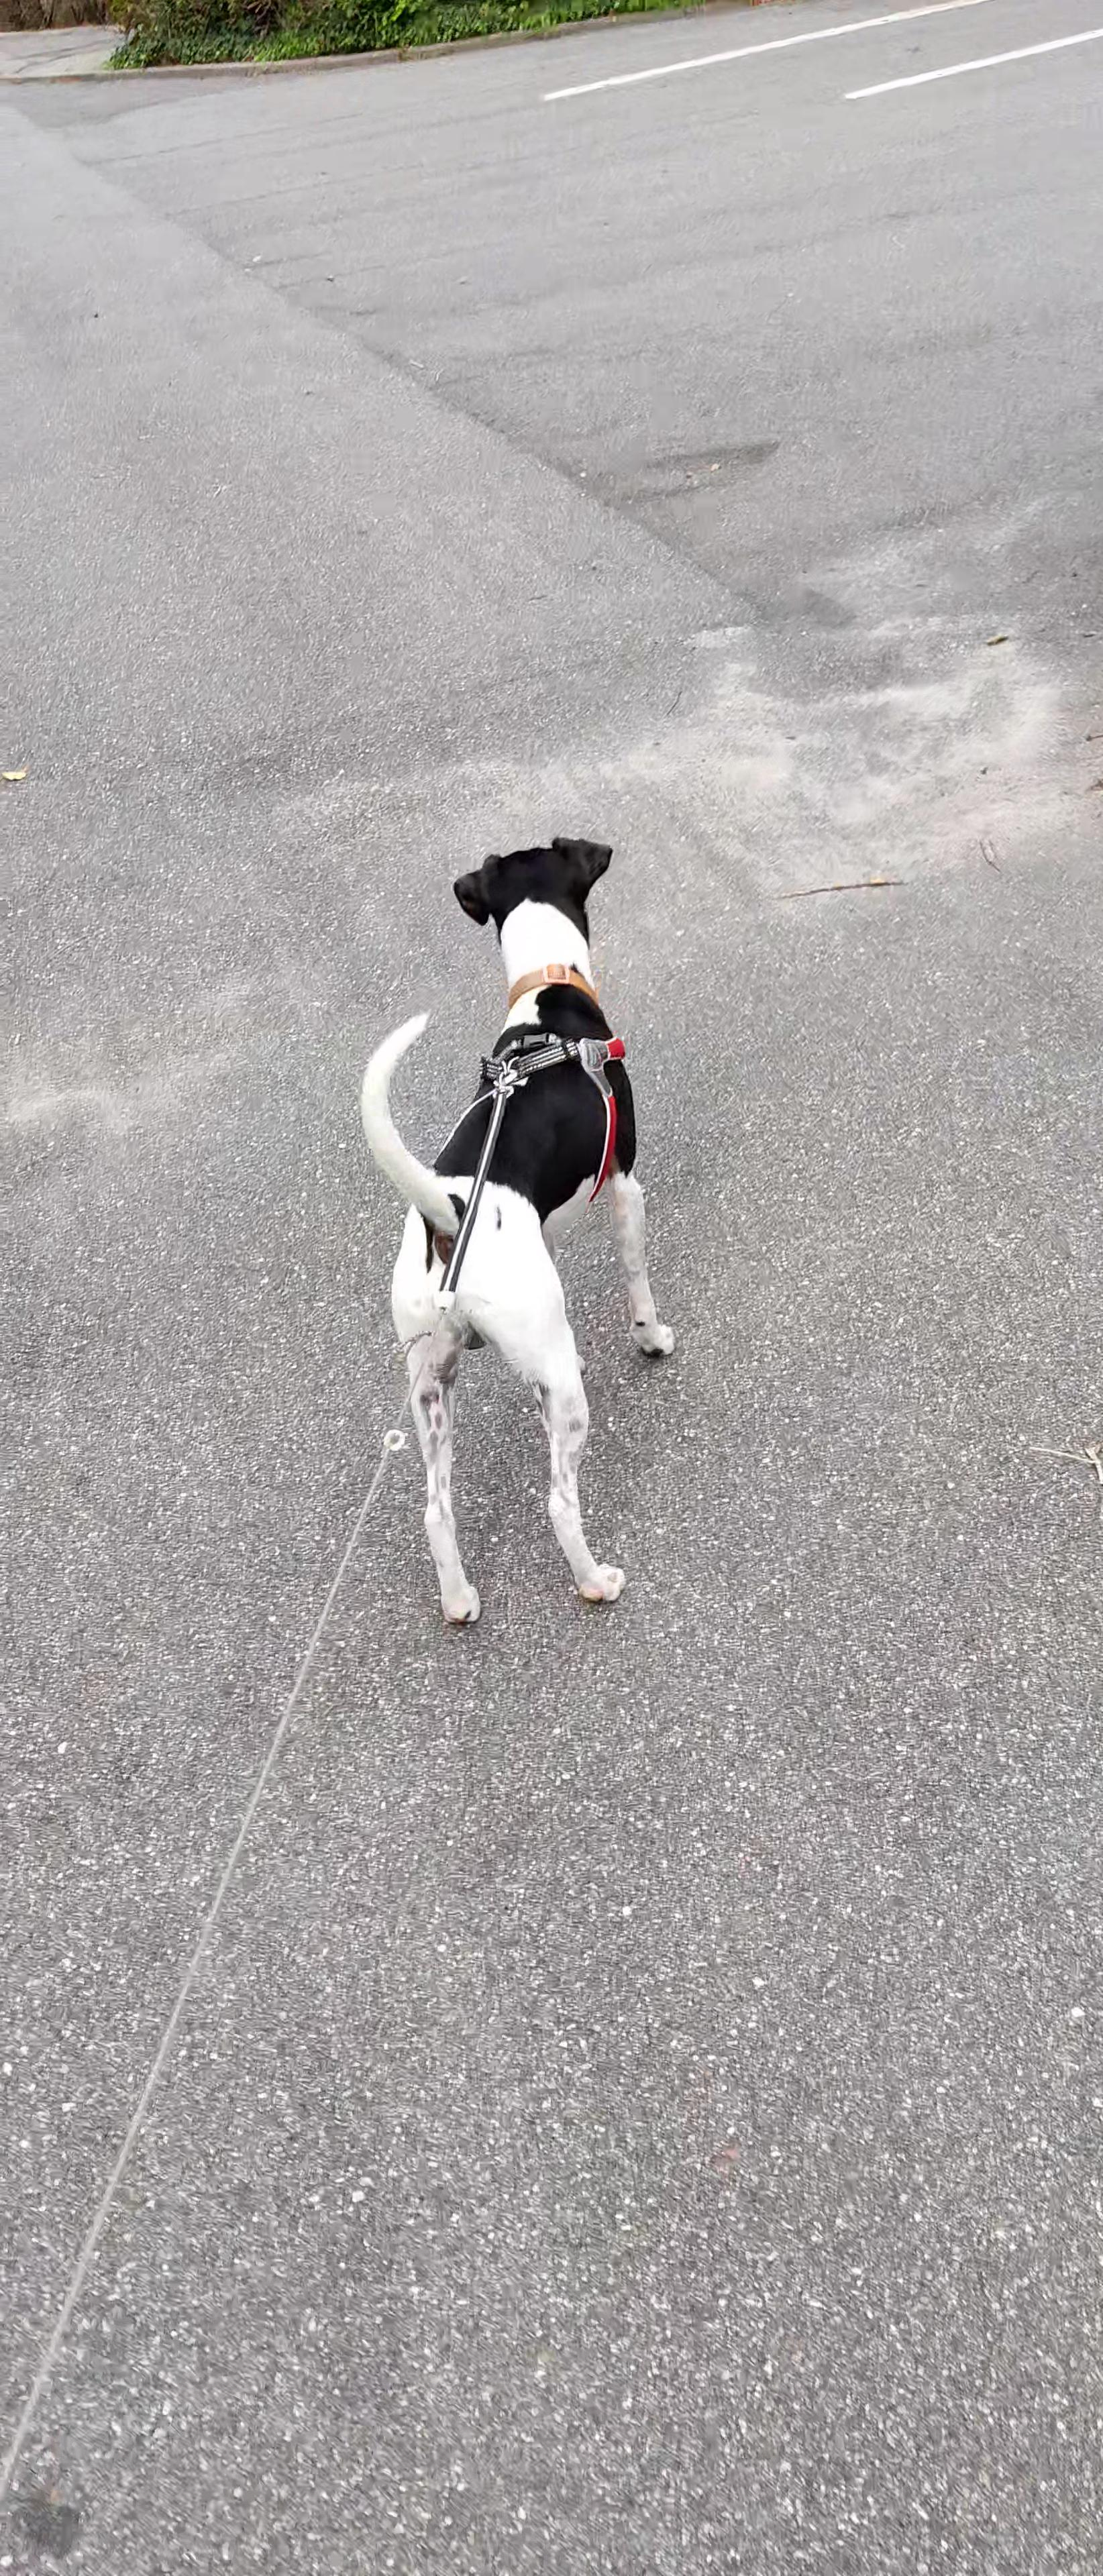Dog: (350, 816, 682, 1631)
